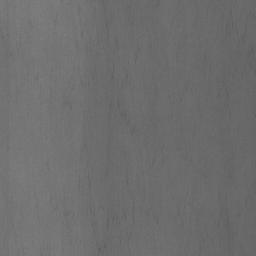Silk spot: (107, 216, 120, 229), (105, 20, 109, 40)
